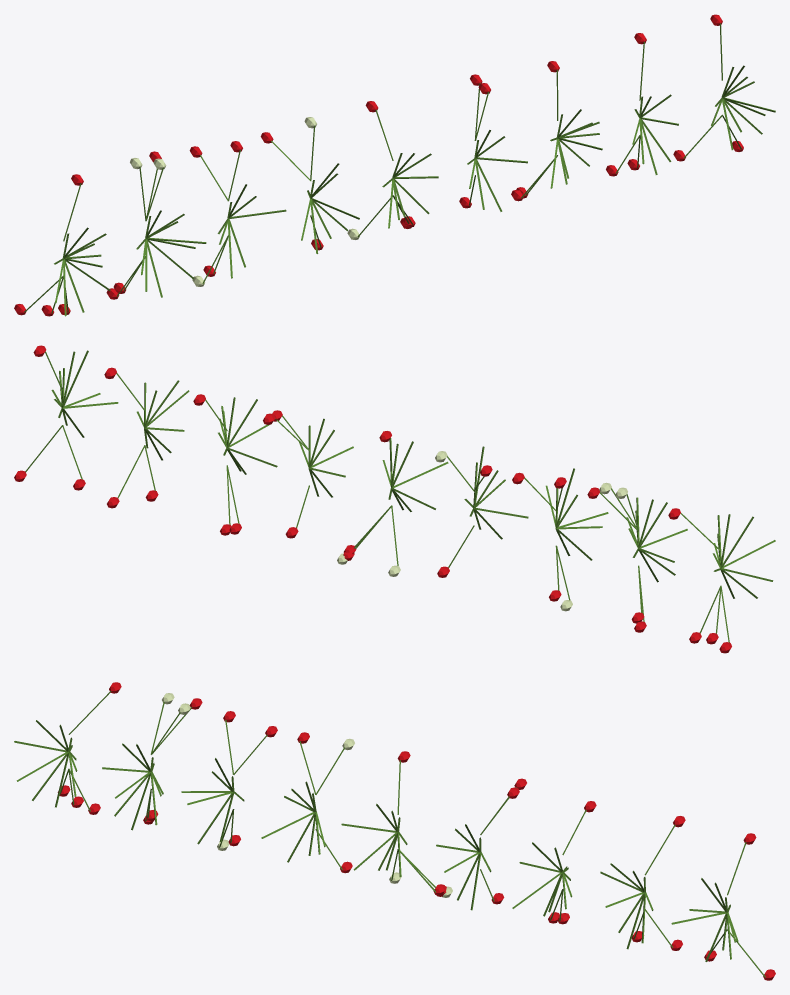
File: r31c4_rest.obj
The picture shows the model from 3 angles, top to bottom: view 1: azimuth 30°, elevation 25°; view 2: azimuth 150°, elevation 25°; view 3: azimuth 330°, elevation 25°; orthographic projection.
Parts seen in each view (by area): view 1: r31c4_rest; view 2: r31c4_rest; view 3: r31c4_rest.
Part boxes in pixels (bbox=[...]): r31c4_rest: bbox=[14, 14, 775, 316]; r31c4_rest: bbox=[14, 345, 775, 653]; r31c4_rest: bbox=[14, 682, 775, 980].
Bounding box in the file's own units: 2.2 × 0.405 × 0.255.
